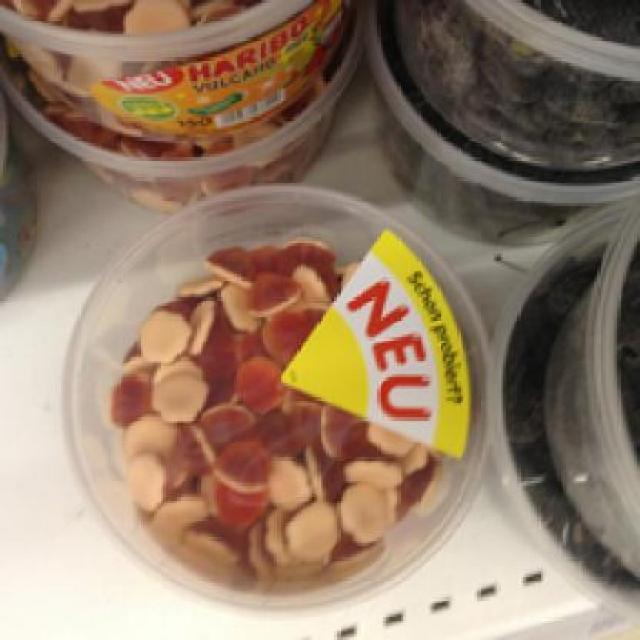Candy: (57, 183, 490, 606)
